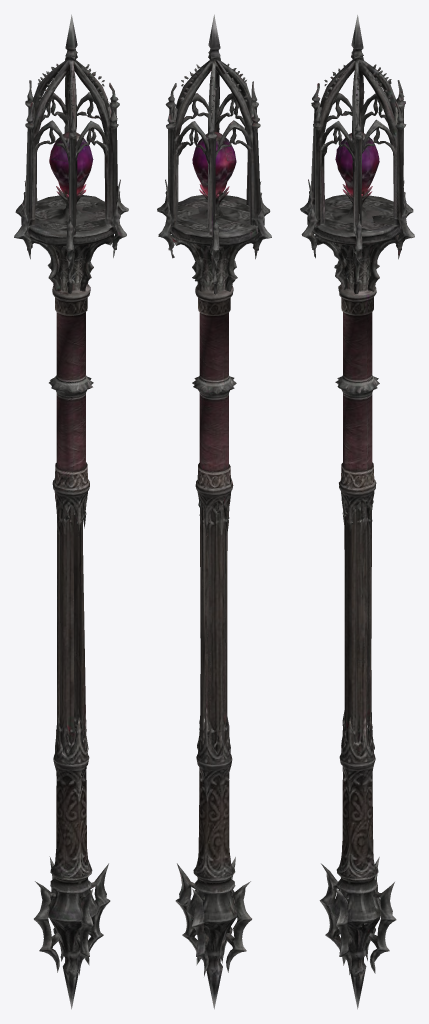
File: staff-spire.glb
3 views of the same model, side by side, from view 1: azimuth 30°, elevation 25°; view 2: azimuth 150°, elevation 25°; view 3: azimuth 330°, elevation 25° (orthographic).
Size of the model in its own units: 0.1147 by 0.9507 by 0.0957.
Materials: 1 (1 with a texture image).
